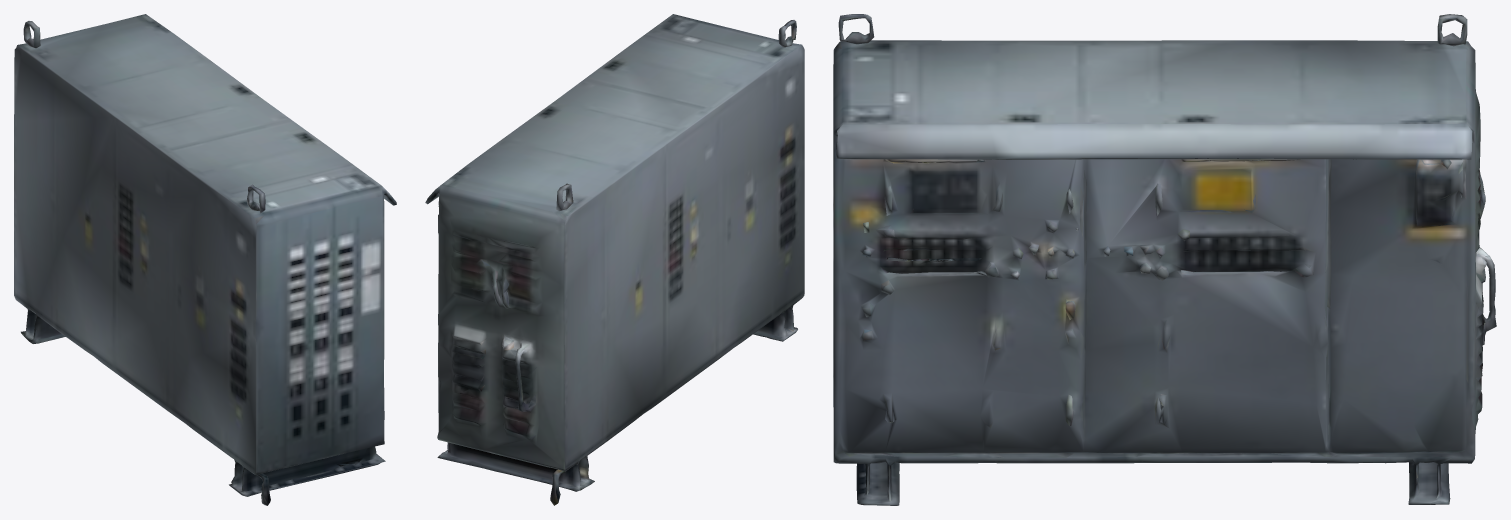
Rendered from switchgear-low.gltf.
3 renders of one model, left to right at view 1: azimuth 30°, elevation 25°; view 2: azimuth 150°, elevation 25°; view 3: azimuth 270°, elevation 25°, orthographic. The views are drawn at different scales.
Visible parts, largest first — view 1: Sketchfab_model; view 2: Sketchfab_model; view 3: Sketchfab_model.
Part boxes in pixels (x1,y1,x2,y2): Sketchfab_model: (14,14,396,505); Sketchfab_model: (425,14,804,505); Sketchfab_model: (833,14,1496,505).
Size of the model in its own units: 0.6874 by 1.41 by 2.
Materials: 1 (1 with a texture image).
